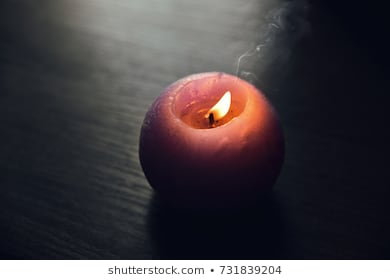Fire: (206, 90, 231, 122)
